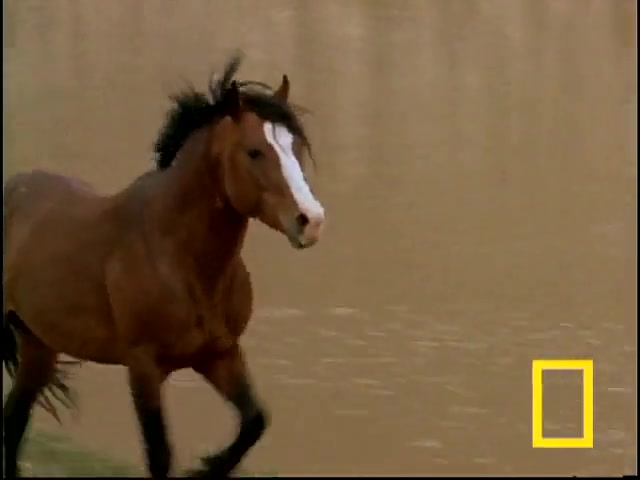horse: (3, 52, 329, 480)
